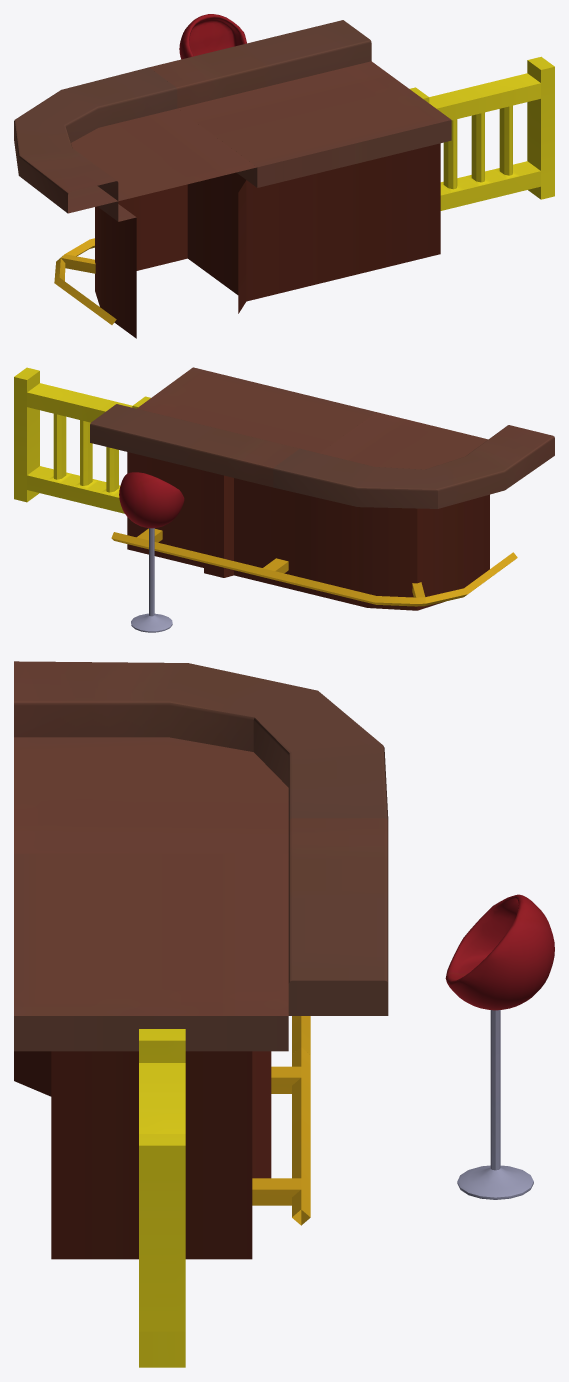
Rendered from BarTableProps 1.fbx.
3 renders of one model, top to bottom at view 1: azimuth 30°, elevation 25°; view 2: azimuth 150°, elevation 25°; view 3: azimuth 270°, elevation 25°, orthographic. The views are drawn at different scales.
Parts seen in each view (by area): view 1: barTable_part1, barTable_part2, barKalitka, seat; view 2: barTable_part2, barTable_part1, barKalitka, seat, barChairLeg; view 3: barTable_part1, barTable_part2, barKalitka, seat, barChairLeg.
Part boxes in pixels (x1,y1,x2,y2): barTable_part1: [148, 20, 451, 301]; barTable_part2: [14, 67, 256, 338]; barKalitka: [410, 56, 554, 210]; seat: [179, 14, 246, 59]; barTable_part2: [273, 412, 554, 610]; barTable_part1: [90, 367, 375, 593]; barKalitka: [14, 367, 150, 513]; seat: [119, 472, 184, 528]; barChairLeg: [131, 528, 172, 632]; barTable_part1: [14, 818, 388, 1259]; barTable_part2: [14, 661, 388, 1096]; barKalitka: [139, 1029, 185, 1367]; seat: [445, 894, 554, 1010]; barChairLeg: [457, 1010, 533, 1199].
Bounding box in the file's own units: 22.19 × 6.73 × 11.6.
1 material, 1 textured.
